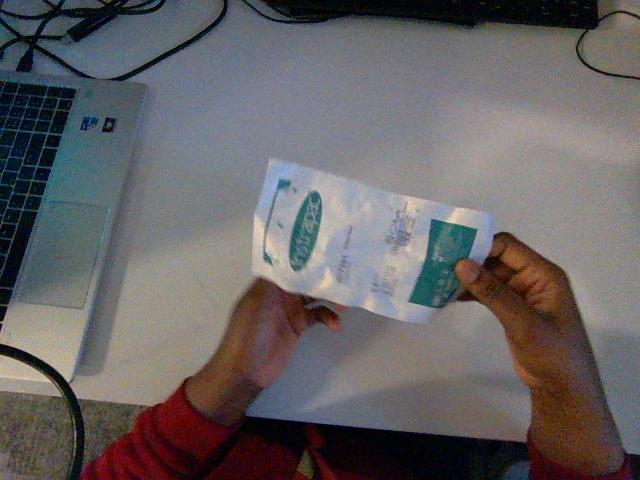gallipot: (252, 159, 492, 322)
